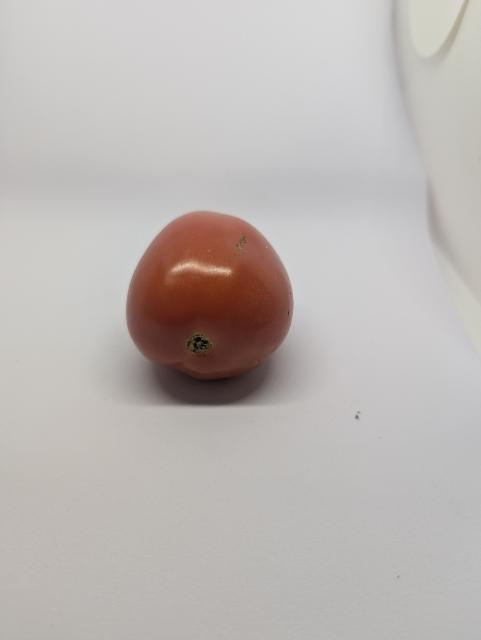red: (109, 200, 327, 397)
